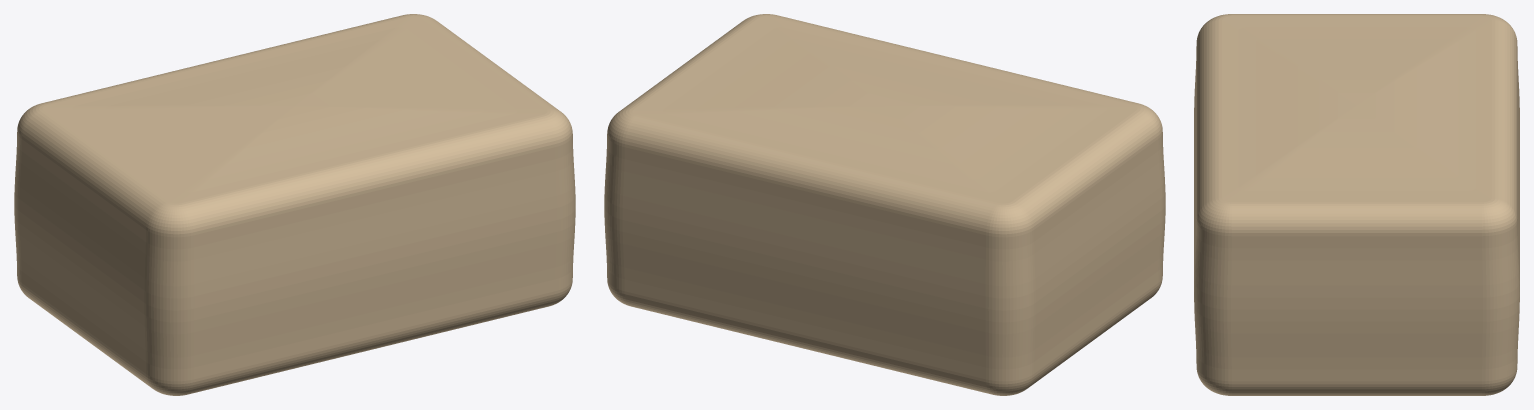
3 renders of one model, left to right at view 1: azimuth 30°, elevation 25°; view 2: azimuth 150°, elevation 25°; view 3: azimuth 270°, elevation 25°, orthographic.
Parts seen in each view (by area): view 1: soap_body; view 2: soap_body; view 3: soap_body.
Part boxes in pixels (box(x1,y1,x2,y2)): soap_body: box(14, 14, 575, 395); soap_body: box(604, 14, 1165, 395); soap_body: box(1194, 14, 1519, 395).
Size of the model in its own units: 0.07 by 0.031 by 0.046.
